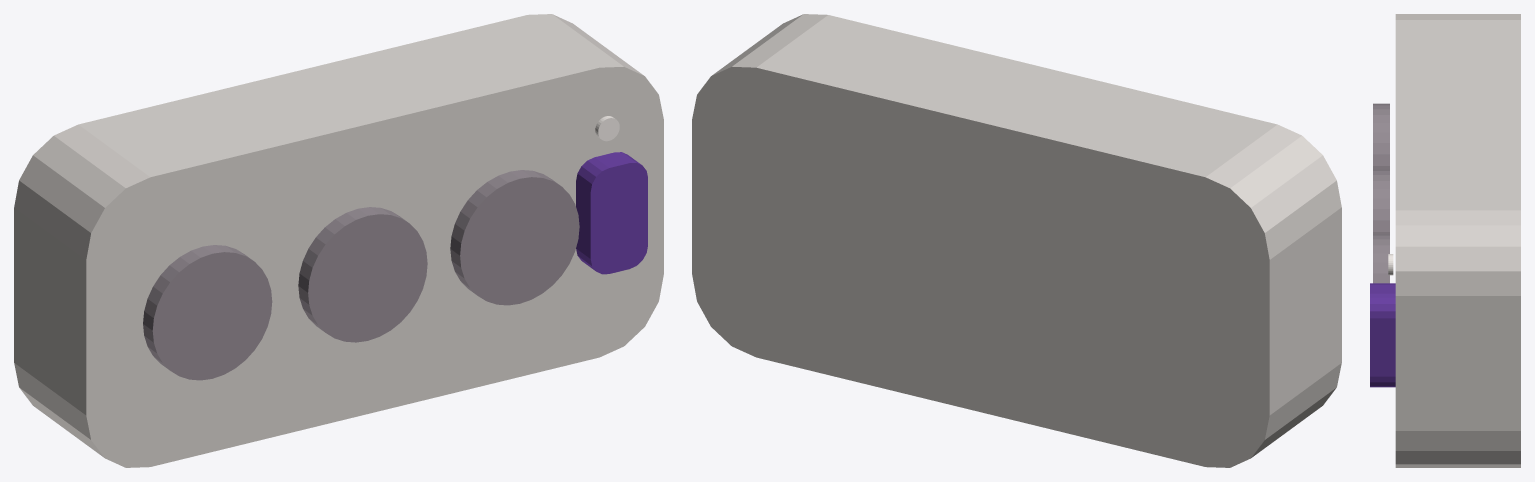
Rendered from powerstrip.glb.
3 renders of one model, left to right at view 1: azimuth 30°, elevation 25°; view 2: azimuth 150°, elevation 25°; view 3: azimuth 270°, elevation 25°, orthographic. The views are drawn at different scales.
Visible parts, largest first — view 1: case, socket-0.52, socket-0.06, socket0.39, switch; view 2: case; view 3: case, switch, socket-0.52, socket-0.06, socket0.39.
Boxes of the visible parts, left/top/right/bottom form: case: left=14, top=14, right=663, bottom=467; socket-0.52: left=143, top=245, right=272, bottom=380; socket-0.06: left=298, top=207, right=427, bottom=342; socket0.39: left=450, top=170, right=579, bottom=305; switch: left=576, top=152, right=647, bottom=274; case: left=692, top=14, right=1341, bottom=467; case: left=1395, top=14, right=1520, bottom=467; switch: left=1370, top=283, right=1395, bottom=387; socket-0.52: left=1373, top=103, right=1389, bottom=169; socket-0.06: left=1373, top=169, right=1389, bottom=233; socket0.39: left=1373, top=234, right=1389, bottom=283.
Bounding box in the file's own units: 1.71 × 0.82 × 0.4455.
